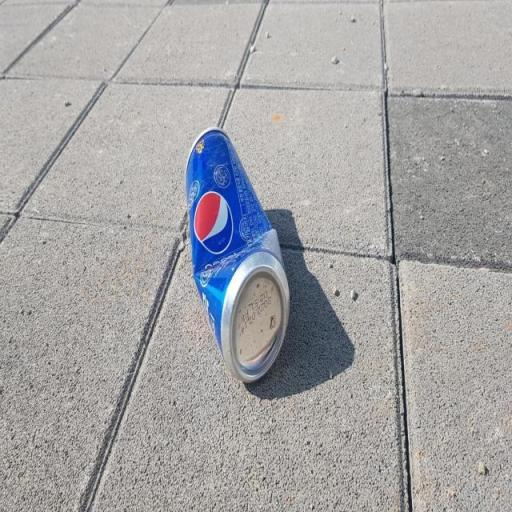metal: (174, 100, 296, 404)
